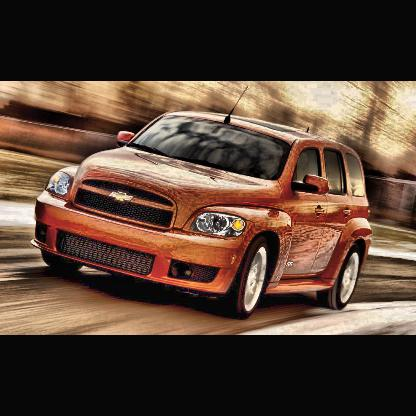Chevrolet HHR SS 2010: (30, 87, 374, 321)
